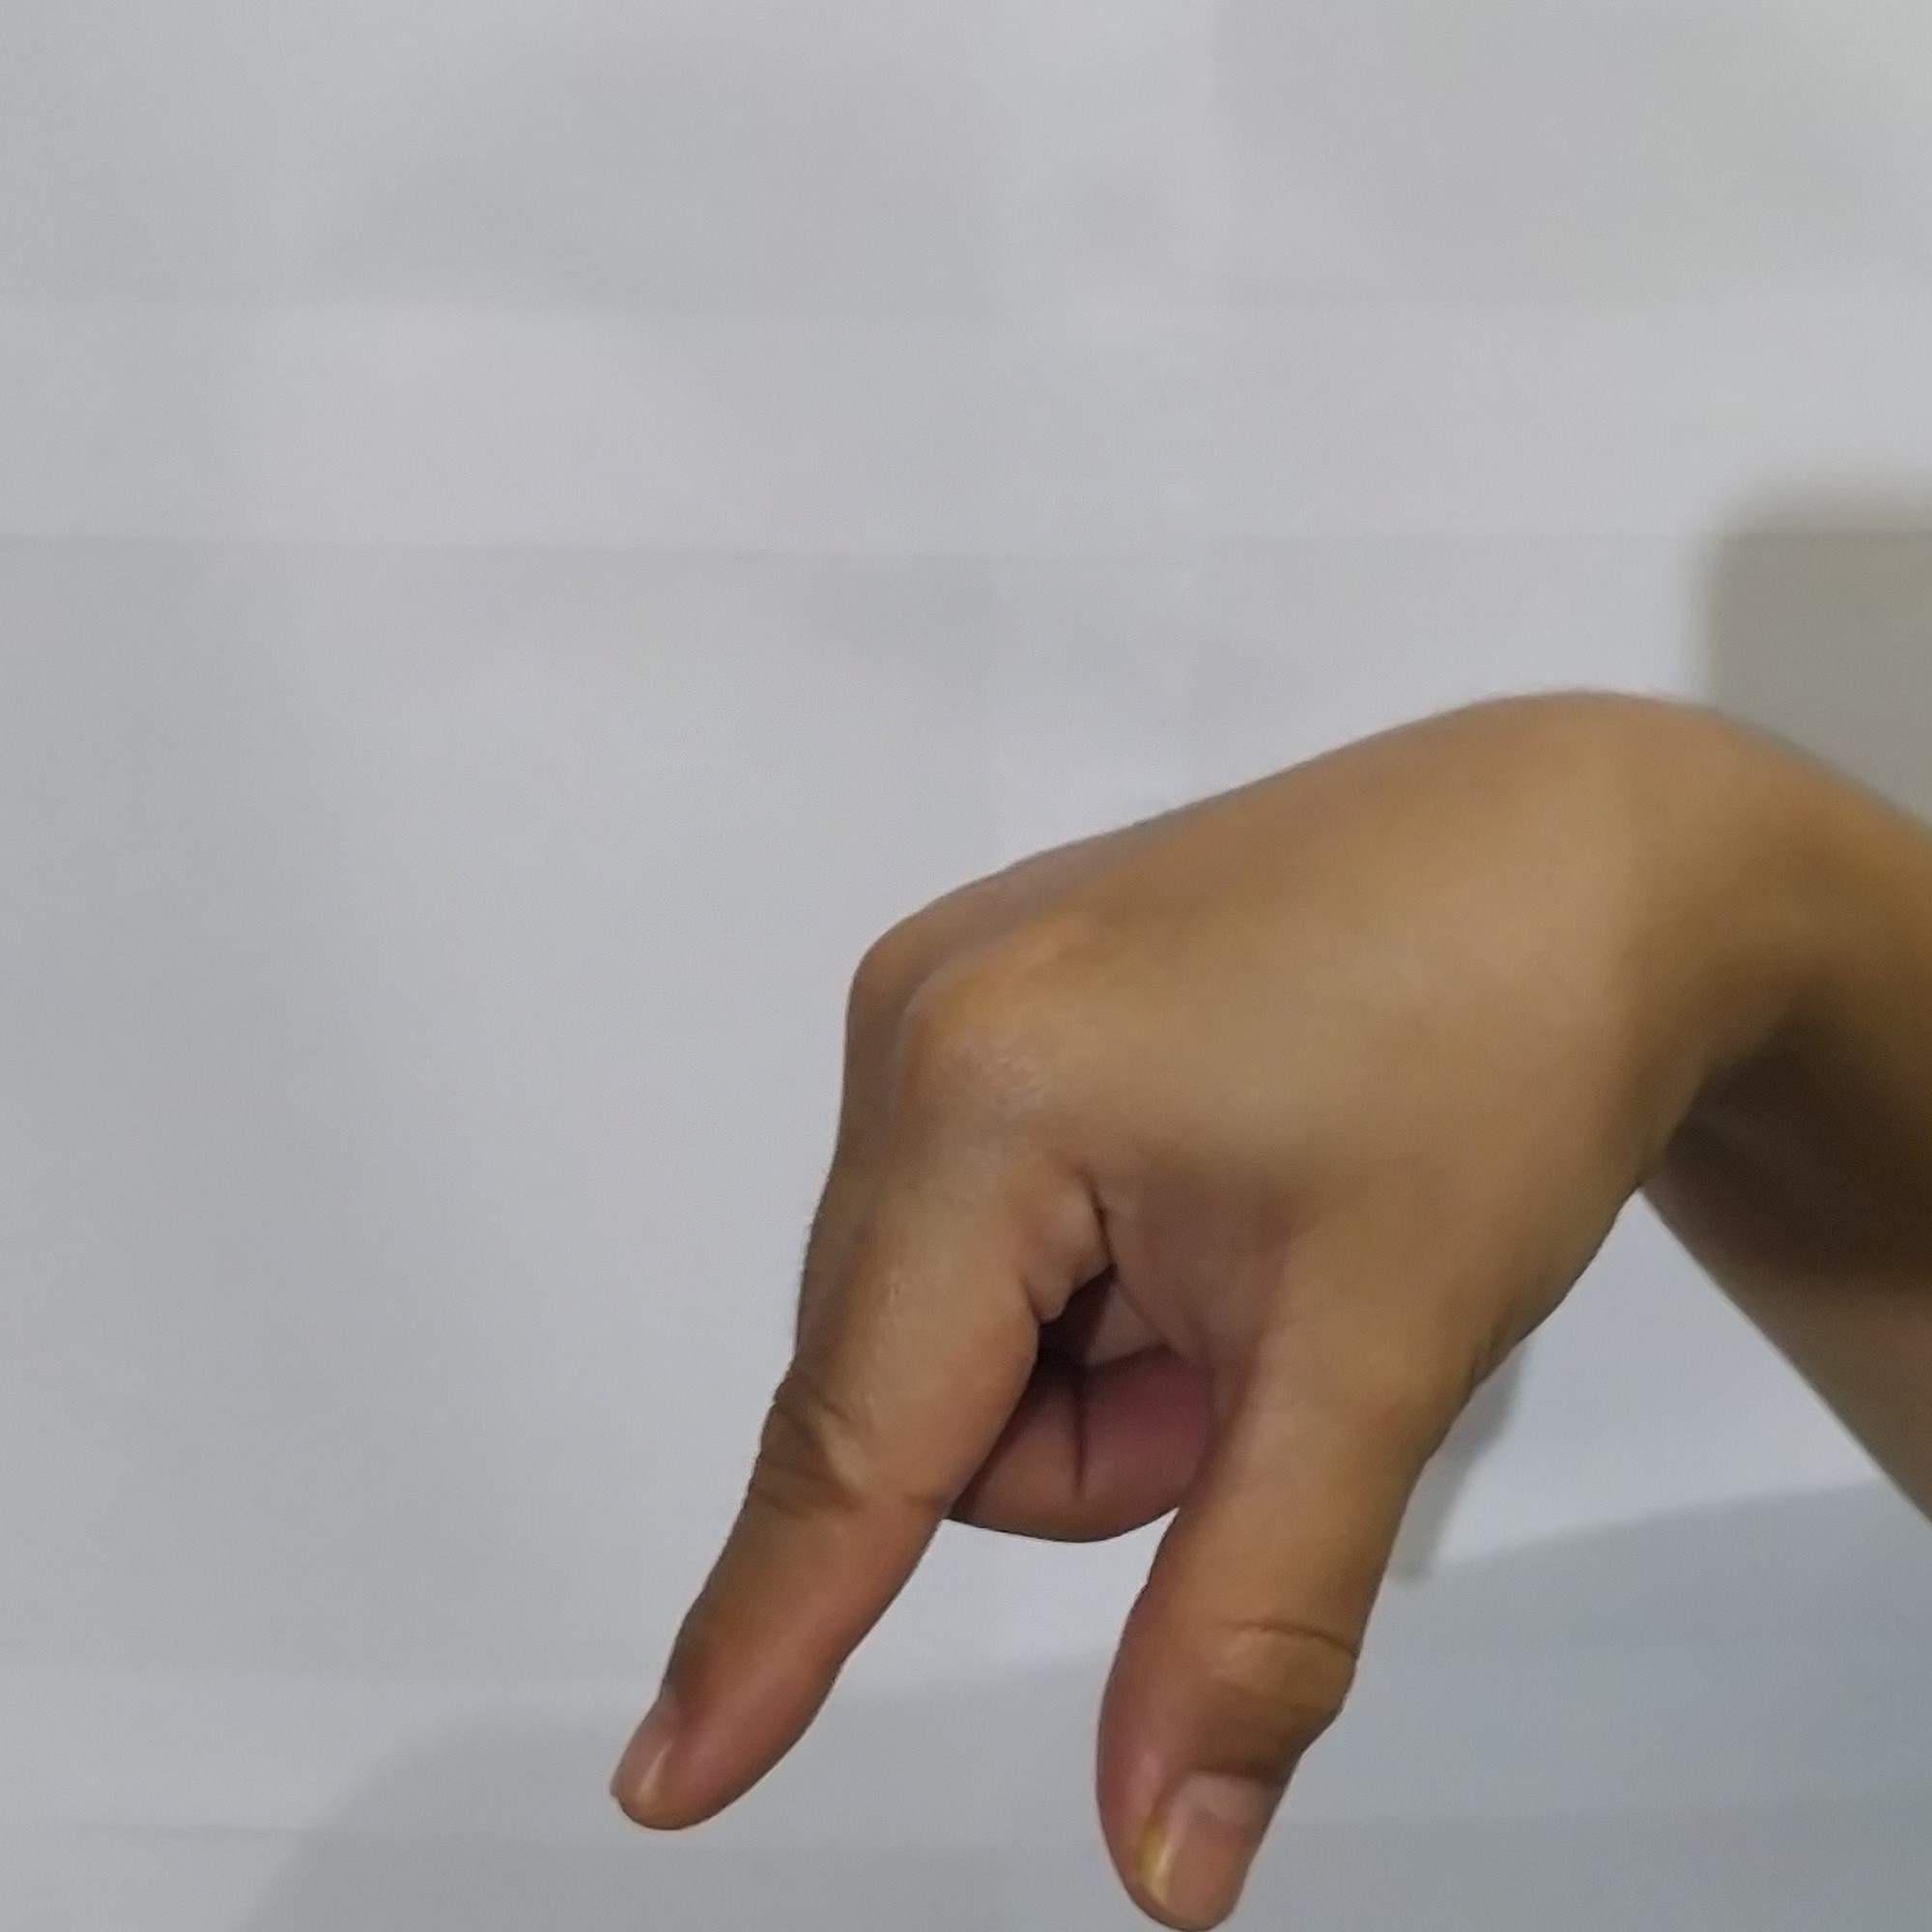Q: (584, 690, 1665, 1932)
